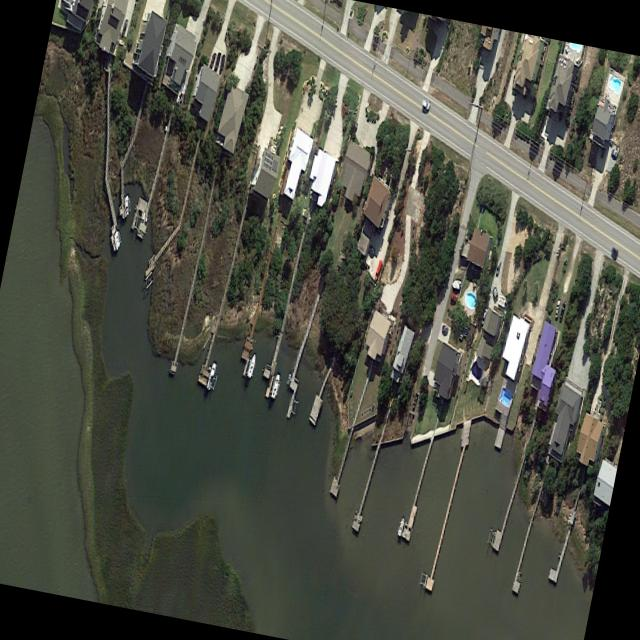ship: (206, 360, 218, 392), (247, 351, 258, 379), (271, 372, 281, 399), (177, 81, 186, 106), (397, 514, 406, 538), (113, 228, 121, 252), (452, 278, 462, 290), (124, 194, 129, 218)
small-vehicle: (374, 259, 383, 282), (209, 50, 217, 72), (214, 51, 222, 71), (492, 282, 499, 303), (219, 53, 226, 74), (481, 307, 489, 325), (610, 145, 620, 159), (422, 97, 431, 111), (559, 301, 566, 319), (412, 391, 419, 409), (122, 19, 129, 37), (450, 290, 459, 304), (555, 299, 561, 318), (368, 244, 376, 257), (496, 258, 502, 275), (441, 323, 450, 334), (611, 246, 618, 258)
